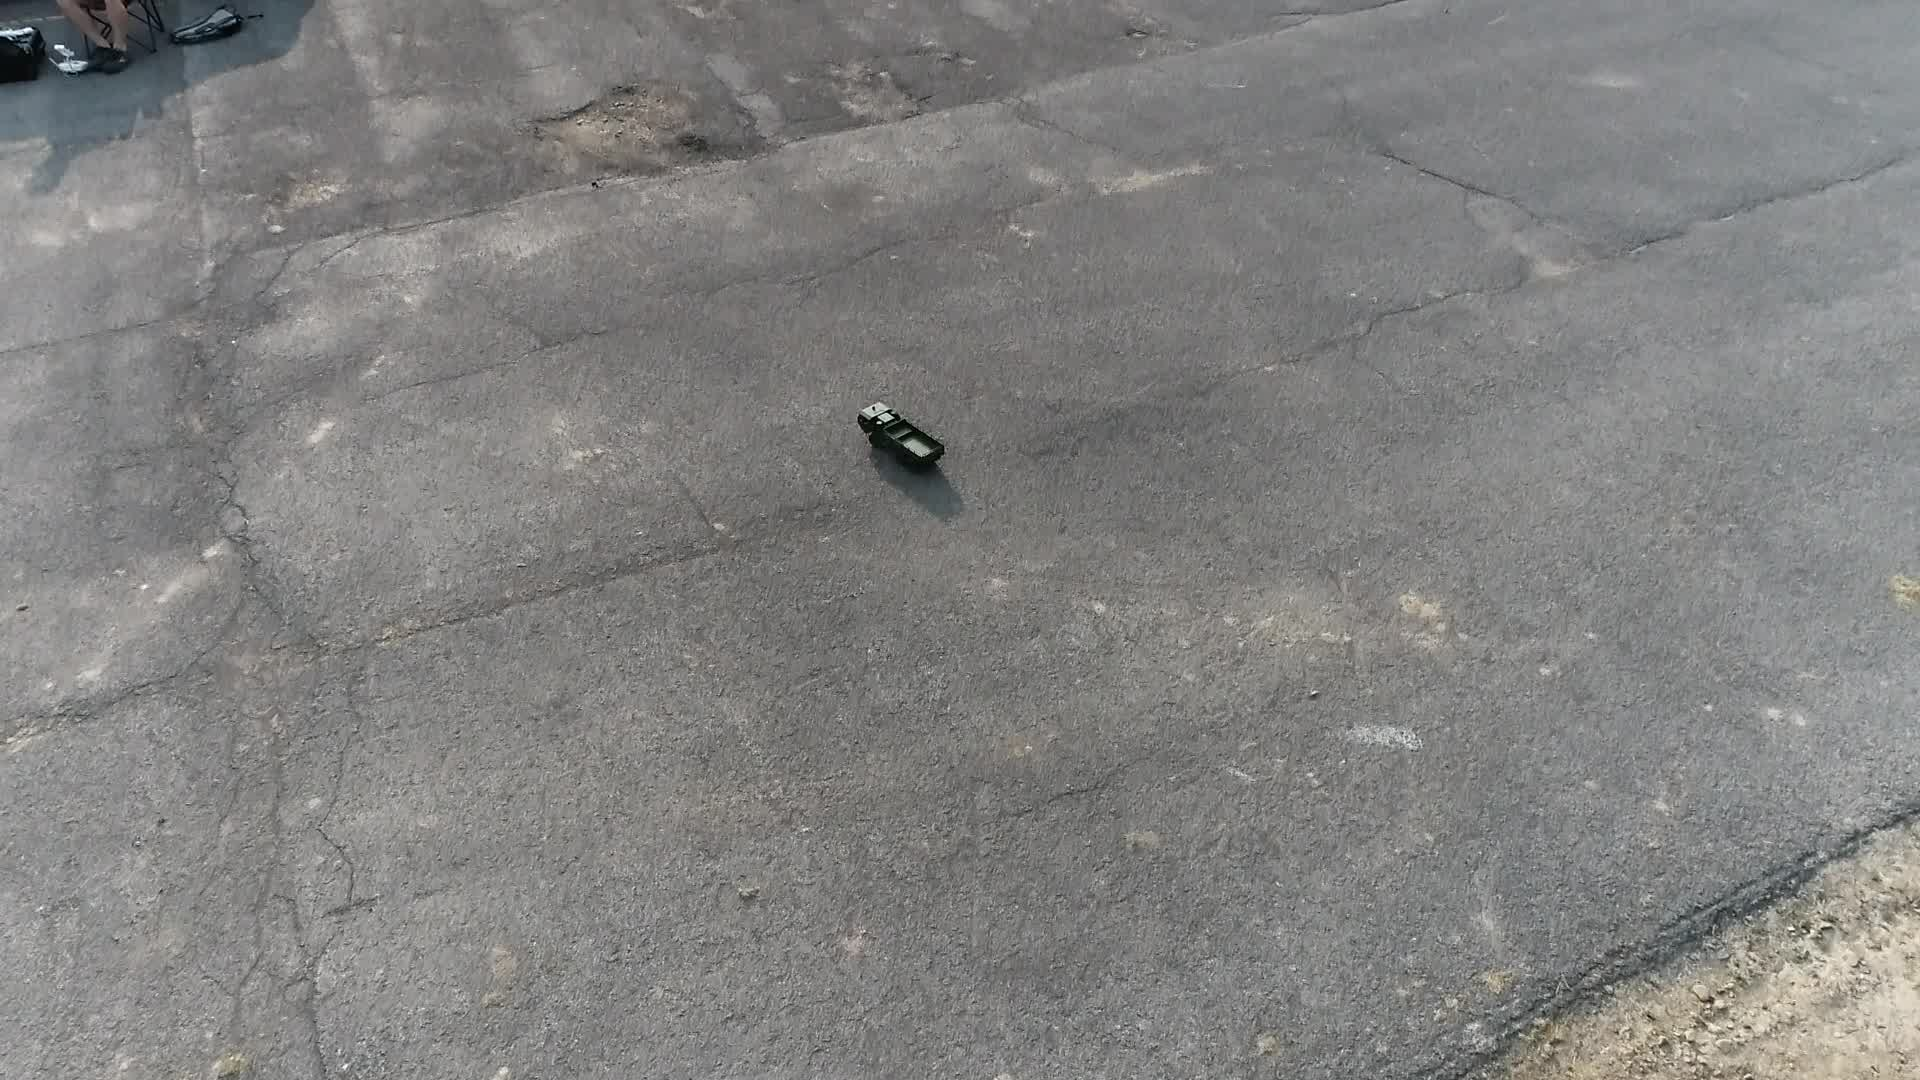transporter9: (848, 398, 952, 476)
